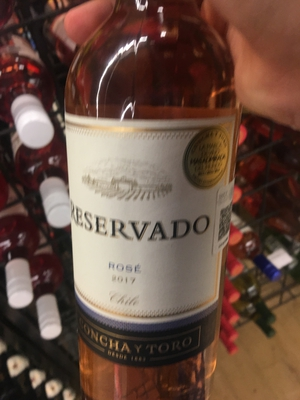reservado rose: (58, 22, 227, 400)
